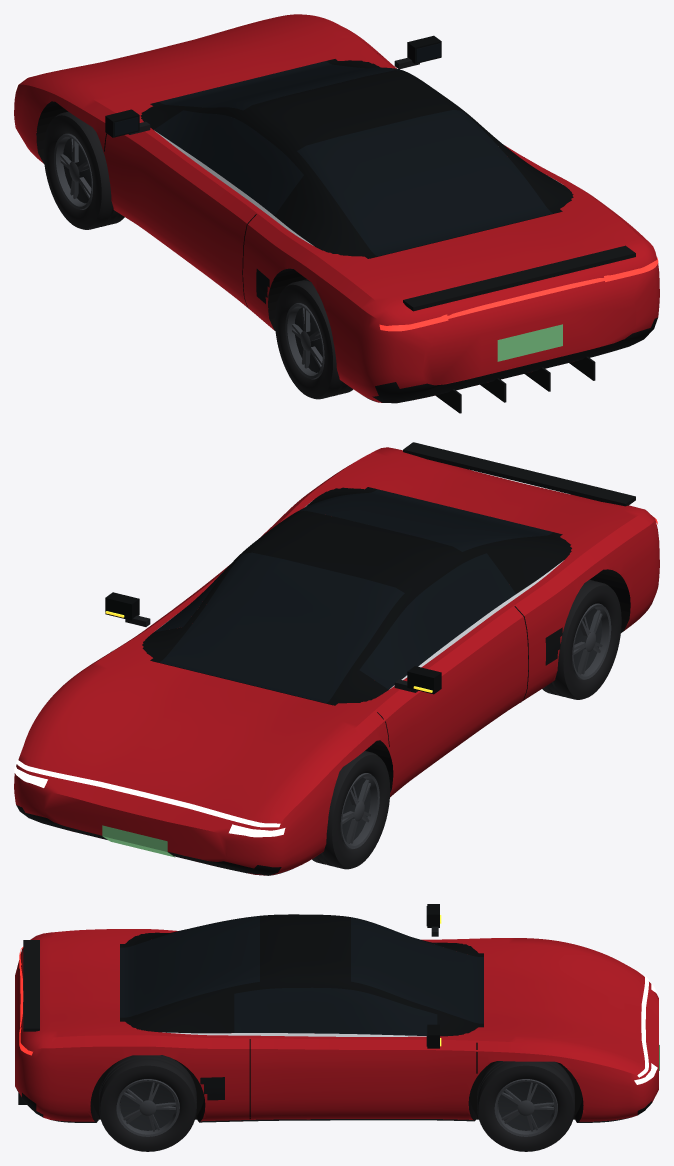
The model's file is gz_sports.glb.
The picture shows the model from 3 angles, top to bottom: view 1: azimuth 30°, elevation 25°; view 2: azimuth 150°, elevation 25°; view 3: azimuth 270°, elevation 25°; orthographic projection. The views are drawn at different scales.
Visible parts, largest first — view 1: sports | body, sports front left | wheel, sports rear left | wheel; view 2: sports | body, sports rear left | wheel, sports front left | wheel; view 3: sports | body, sports rear right | wheel, sports front right | wheel.
Part boxes in pixels (x1,y1,x2,y2): sports | body: (14,14,659,413); sports front left | wheel: (43,111,124,229); sports rear left | wheel: (275,279,353,399); sports | body: (14,442,659,875); sports rear left | wheel: (542,580,621,699); sports front left | wheel: (312,751,390,869); sports | body: (15,904,659,1122); sports rear right | wheel: (99,1055,196,1151); sports front right | wheel: (477,1061,574,1151).
Size of the model in its own units: 2.22 by 1.2 by 4.61.
